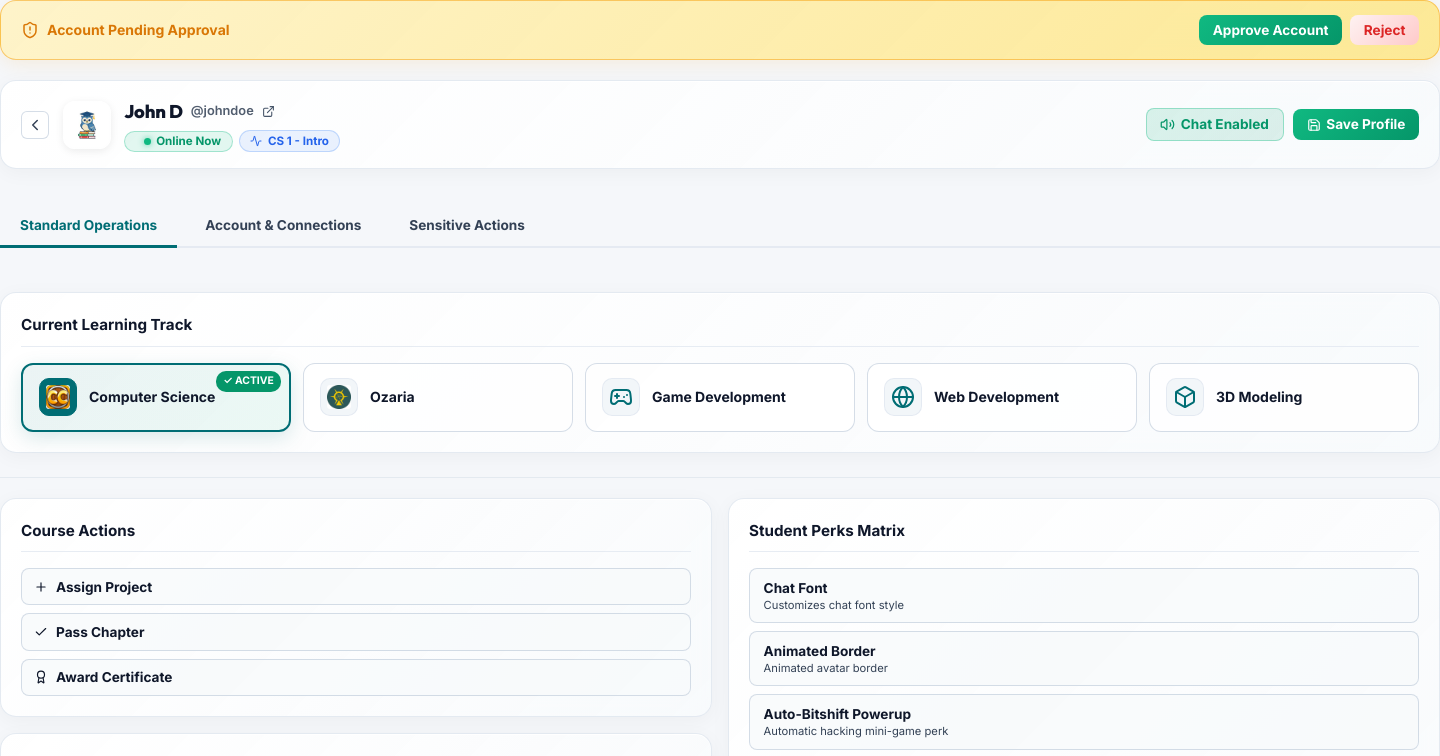
it: AdminUserDashboard Component Redesign › administrator accounts › still shows the pending-approval banner for an unapproved student
The width and height of the screenshot is (1440, 756).
Expected: the text "@johndoe" is shown, [191,101,254,122]
Step 1. Click the button "Account & Connections" → (283, 227), box [185,205,381,248]
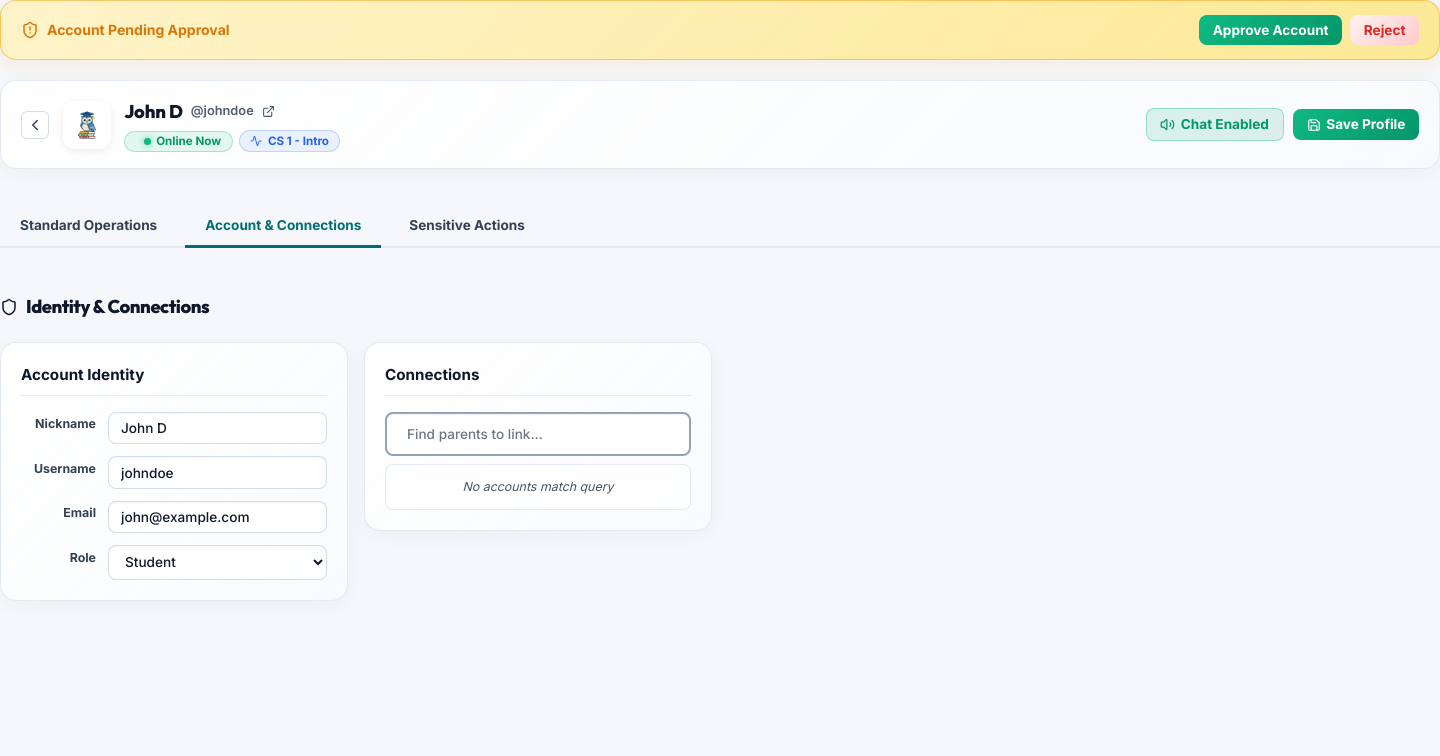
Expected: the text "Account Pending Approval" is shown, [47,19,230,41]
Now the field labelled "Username" holds "johndoe", box [108,456,327,489]
